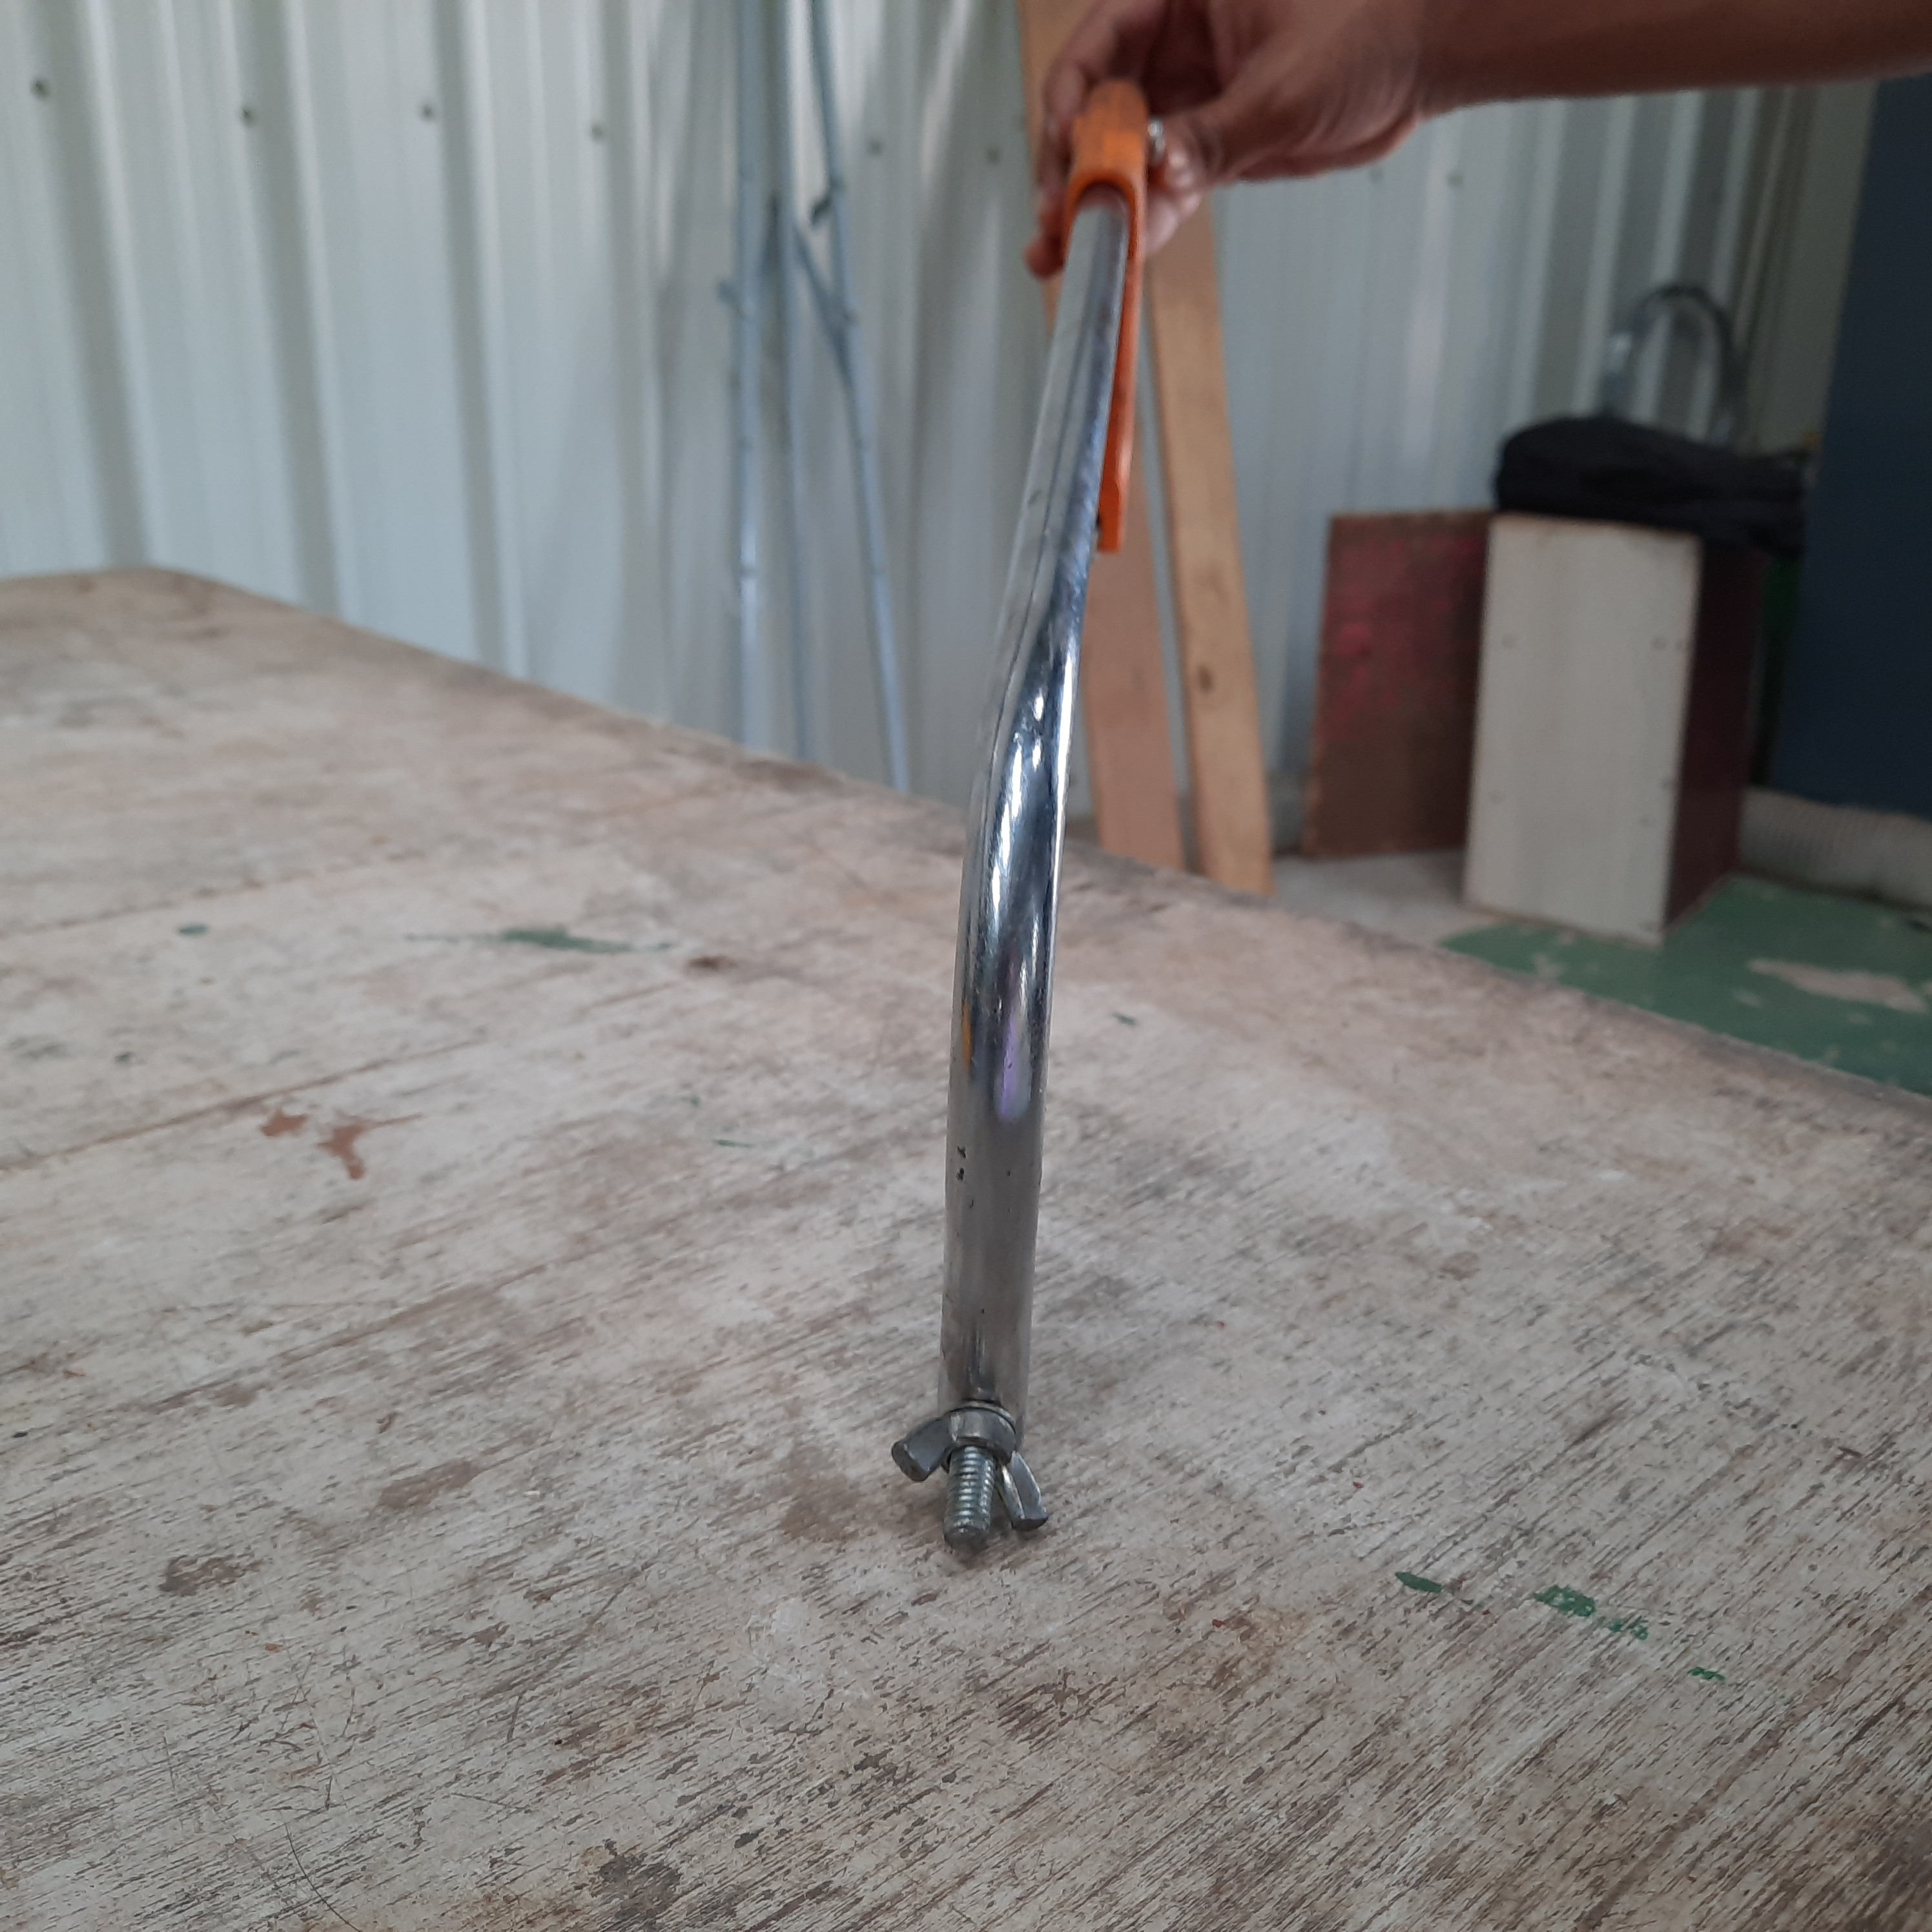Hexaframe: (856, 53, 1329, 1576)
